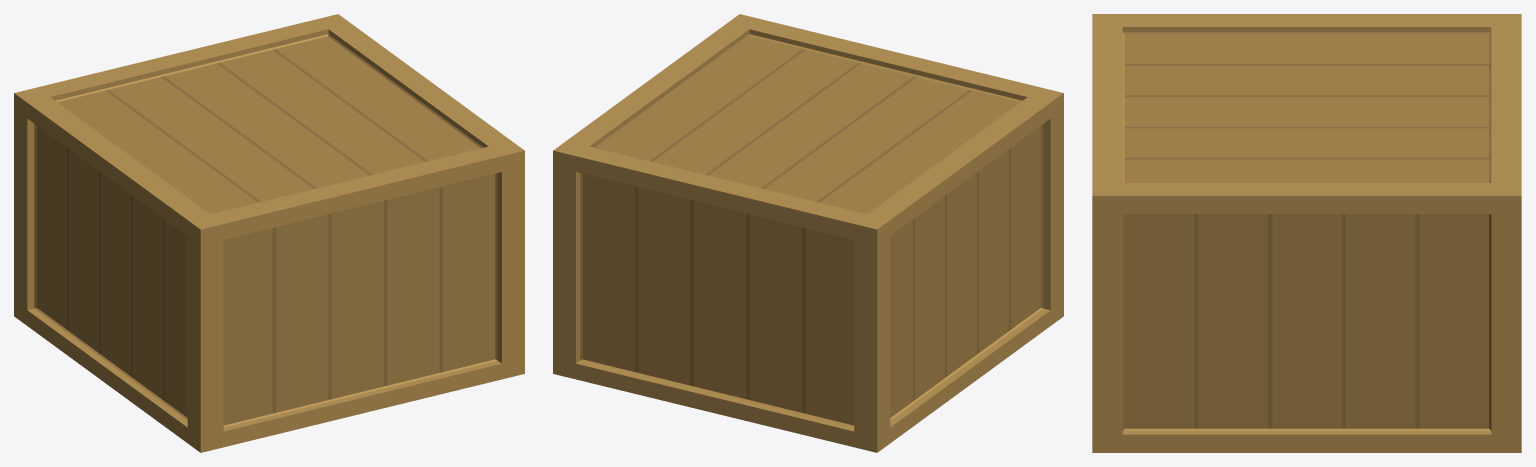
Rendered from Crate.fbx.
3 views of the same model, side by side, from view 1: azimuth 30°, elevation 25°; view 2: azimuth 150°, elevation 25°; view 3: azimuth 270°, elevation 25° (orthographic). The views are drawn at different scales.
Parts seen in each view (by area): view 1: Crate, Crate Lid; view 2: Crate, Crate Lid; view 3: Crate, Crate Lid.
Part boxes in pixels (<box>): Crate: <box>14,109,524,452</box>; Crate Lid: <box>14,14,524,245</box>; Crate: <box>553,109,1063,452</box>; Crate Lid: <box>553,14,1063,245</box>; Crate: <box>1092,214,1521,452</box>; Crate Lid: <box>1092,14,1521,214</box>.
Size of the model in its own units: 173 by 114 by 173.
